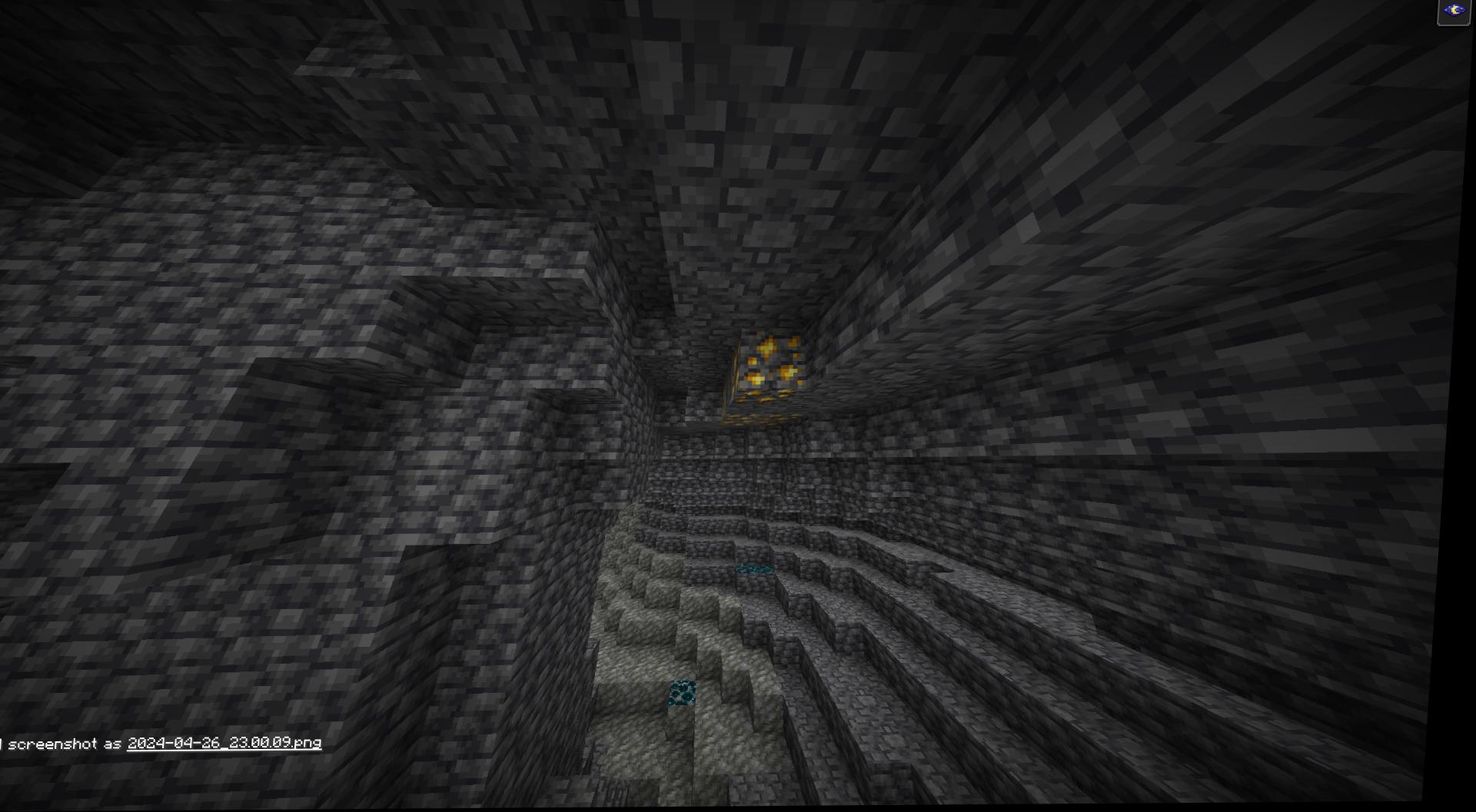gold ore: (743, 328, 815, 387), (741, 385, 803, 406), (733, 411, 802, 428)
